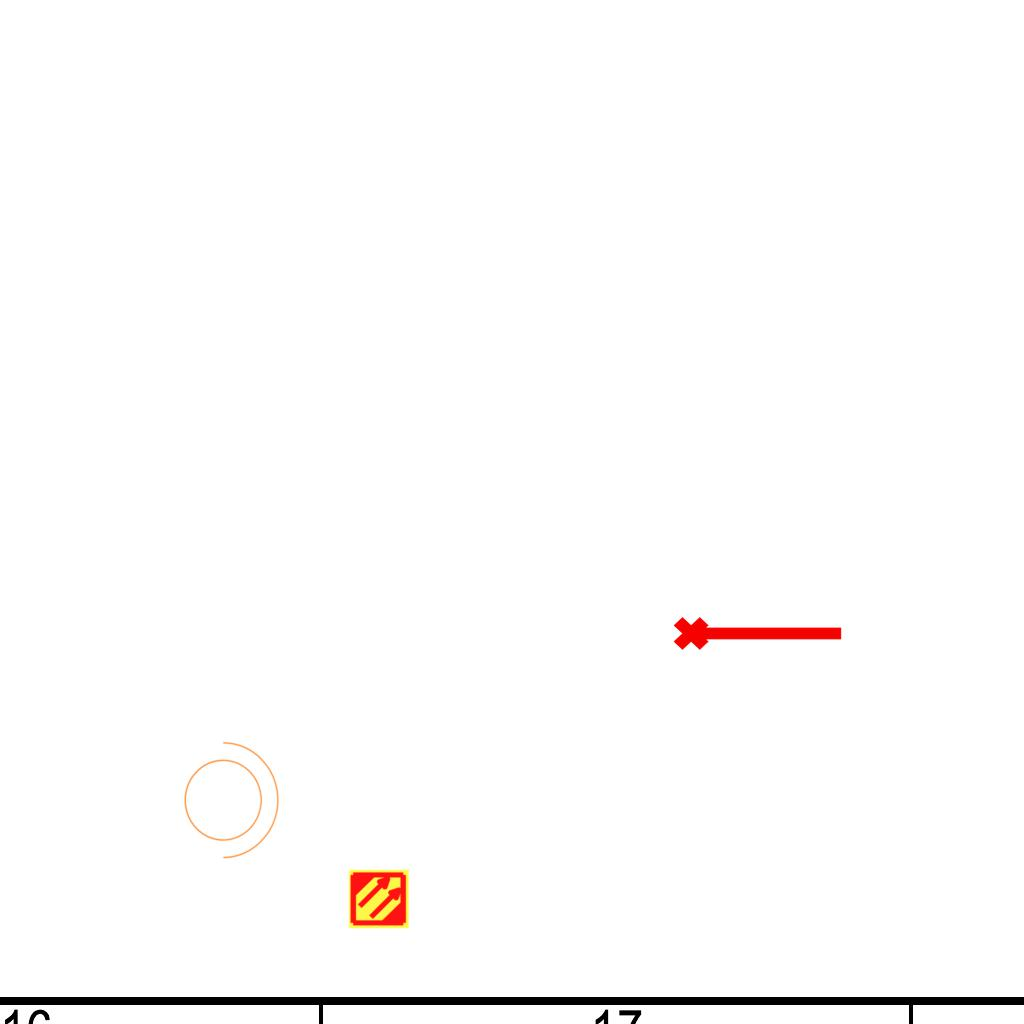ASR_Ansaugoeffnung: (671, 608, 847, 654)
ASR_Ansaugrauchmelder: (348, 868, 410, 930)
Scheinwerfer_fuer_Alarmbeleuchtung: (172, 731, 284, 863)
